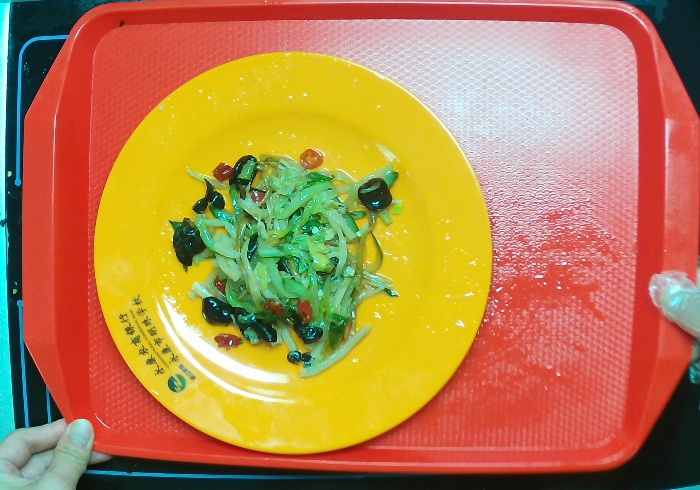YKMZ-Ju_Se_Mian_Pan: (89, 48, 502, 461)
